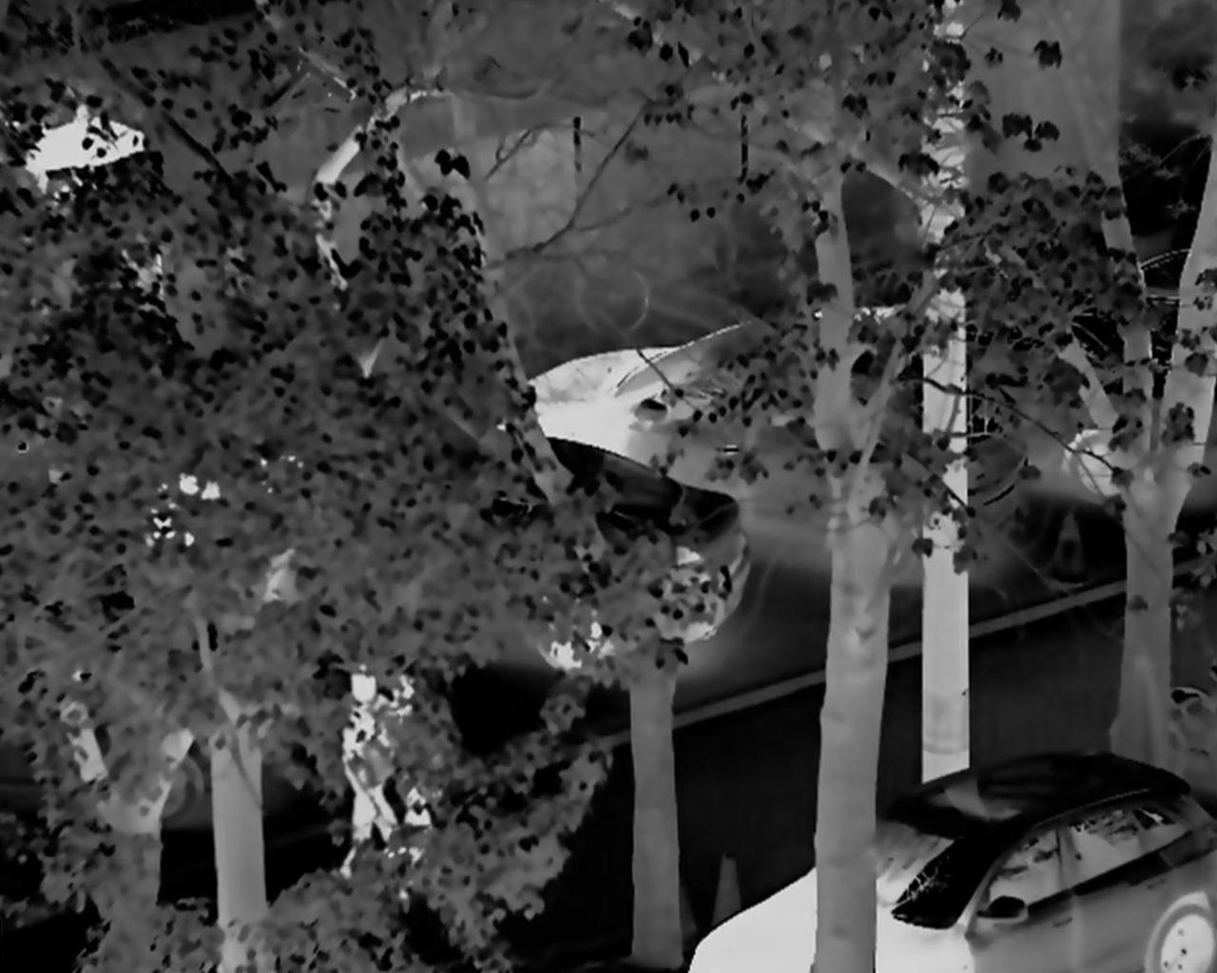person: (338, 662, 404, 877), (388, 676, 454, 884)
